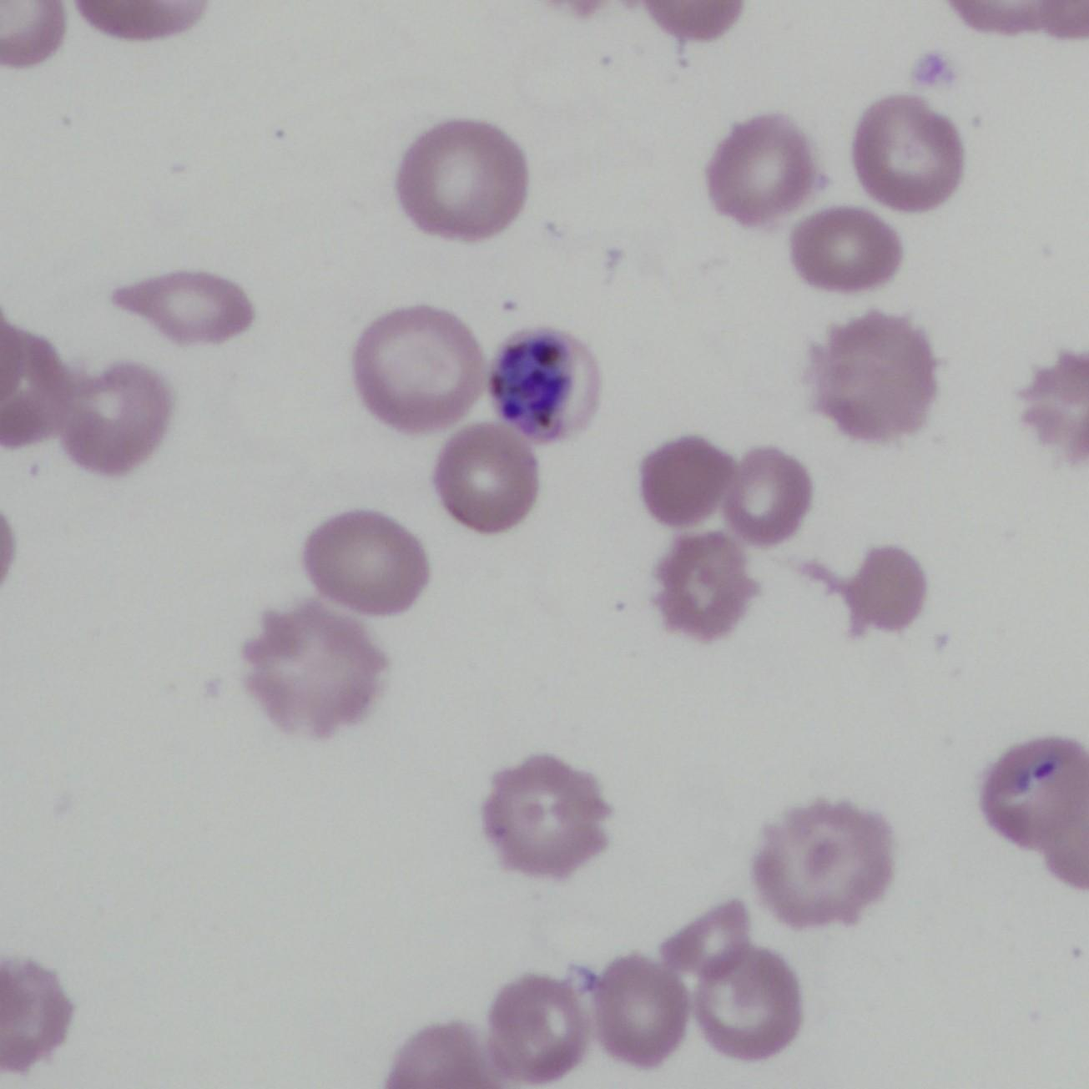Infected: (490, 324, 603, 438)
Uninfected: (242, 599, 388, 733), (807, 307, 942, 438), (749, 802, 895, 923), (482, 751, 613, 877), (398, 119, 529, 241), (357, 309, 484, 428), (853, 94, 965, 214), (302, 510, 428, 616), (686, 948, 802, 1057), (66, 368, 176, 480), (705, 119, 823, 223), (111, 263, 256, 346), (490, 977, 595, 1089), (432, 428, 543, 533), (647, 537, 755, 641), (586, 954, 686, 1064), (786, 203, 903, 296), (718, 445, 812, 541), (837, 543, 930, 631), (645, 438, 736, 525)
